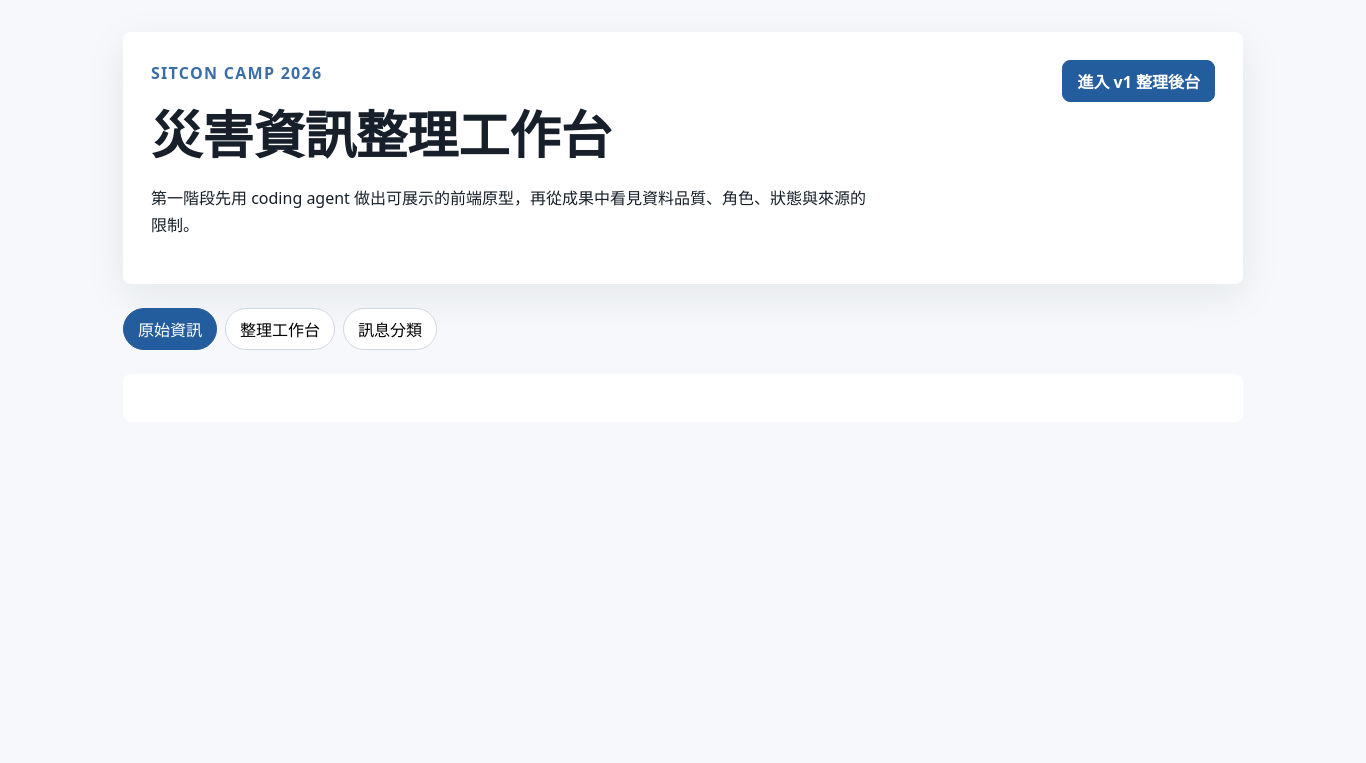
App › keeps non-food information out of the food and water bucket
The image size is (1366, 763).
Click the button "訊息分類": (390, 329) 343,308 -> 437,350
(page scrolled)
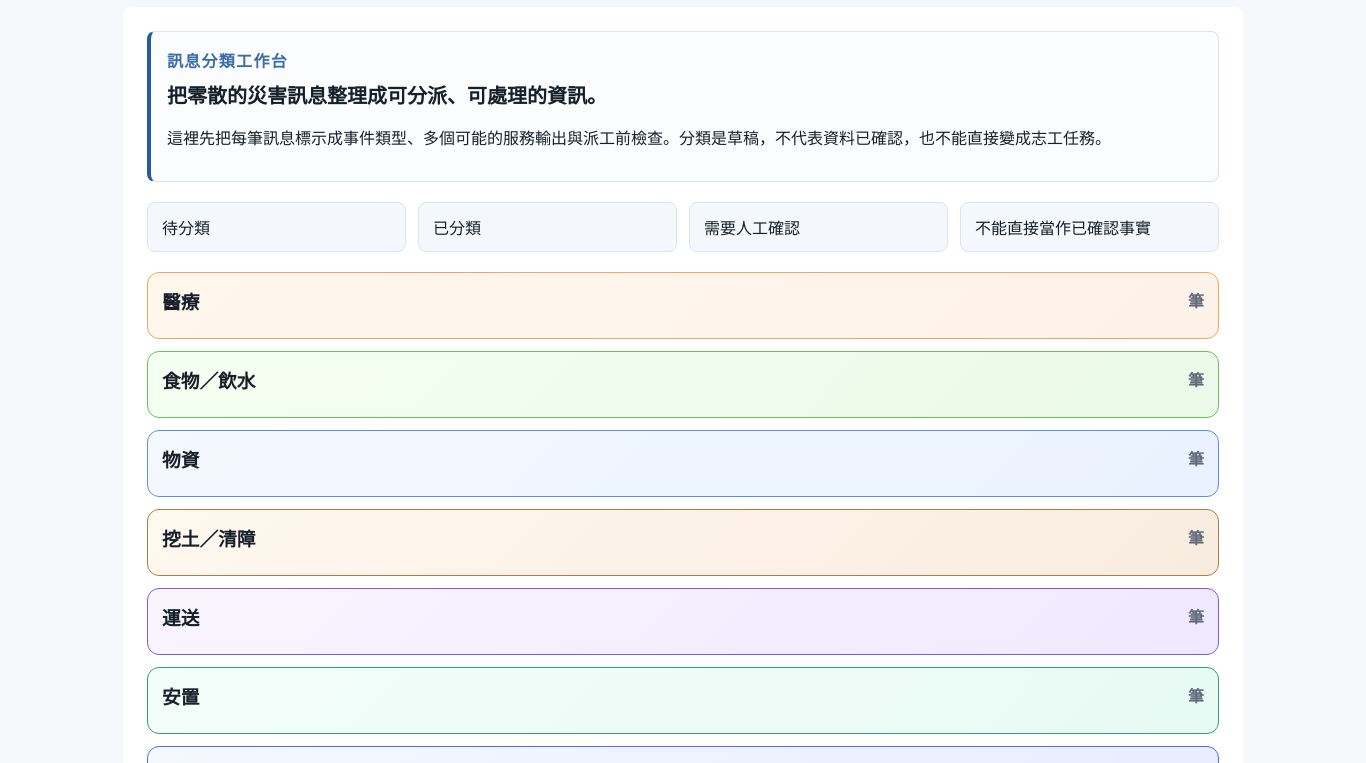
Expected: the element "食物／飲水" is shown, 147,351 -> 1219,418
